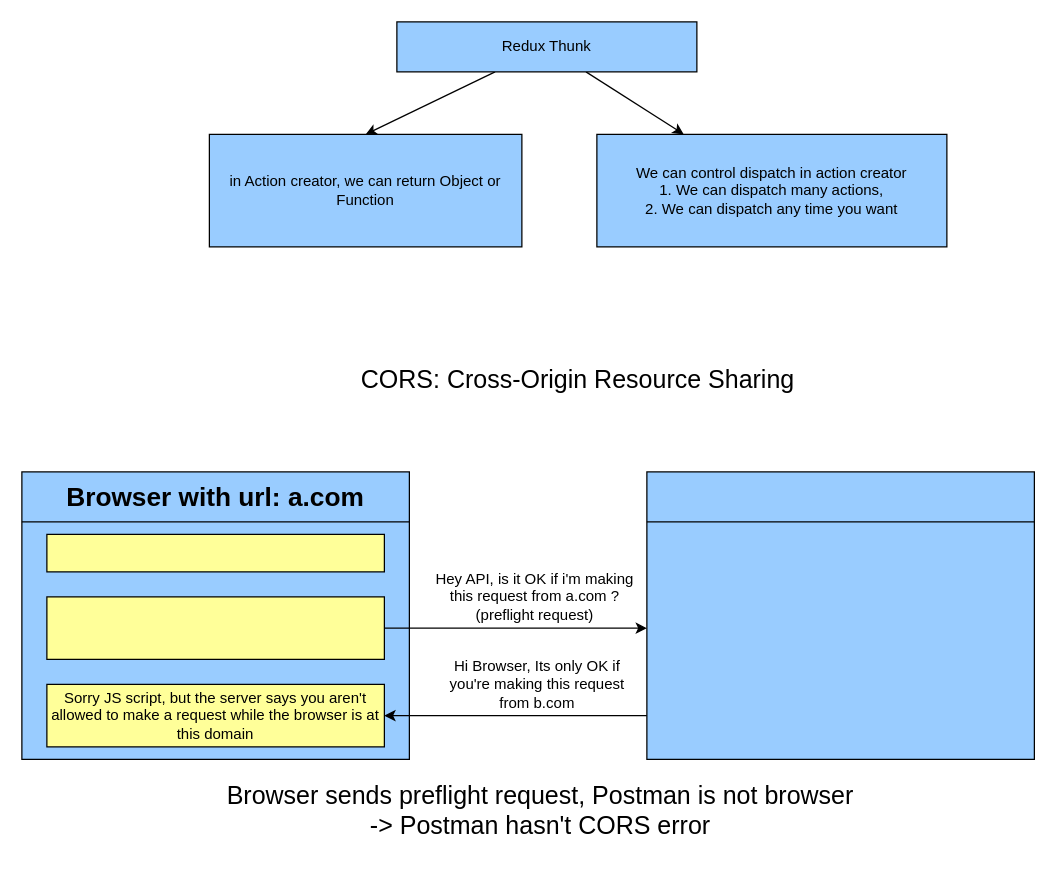
Image size: 1056x869. Some labels were removed from this diagram. The shapes that lost their labels are listed below. From the top down, each one's box as (x1, y1, x2, y2) in pixels, then its label:
(46, 533, 384, 572): JS code tries to initate request to b.com
(46, 596, 384, 659): Browser says: "OK, but this is different domaim, seem risky!"
(646, 471, 1034, 759): Backend API: b.com/transfer
